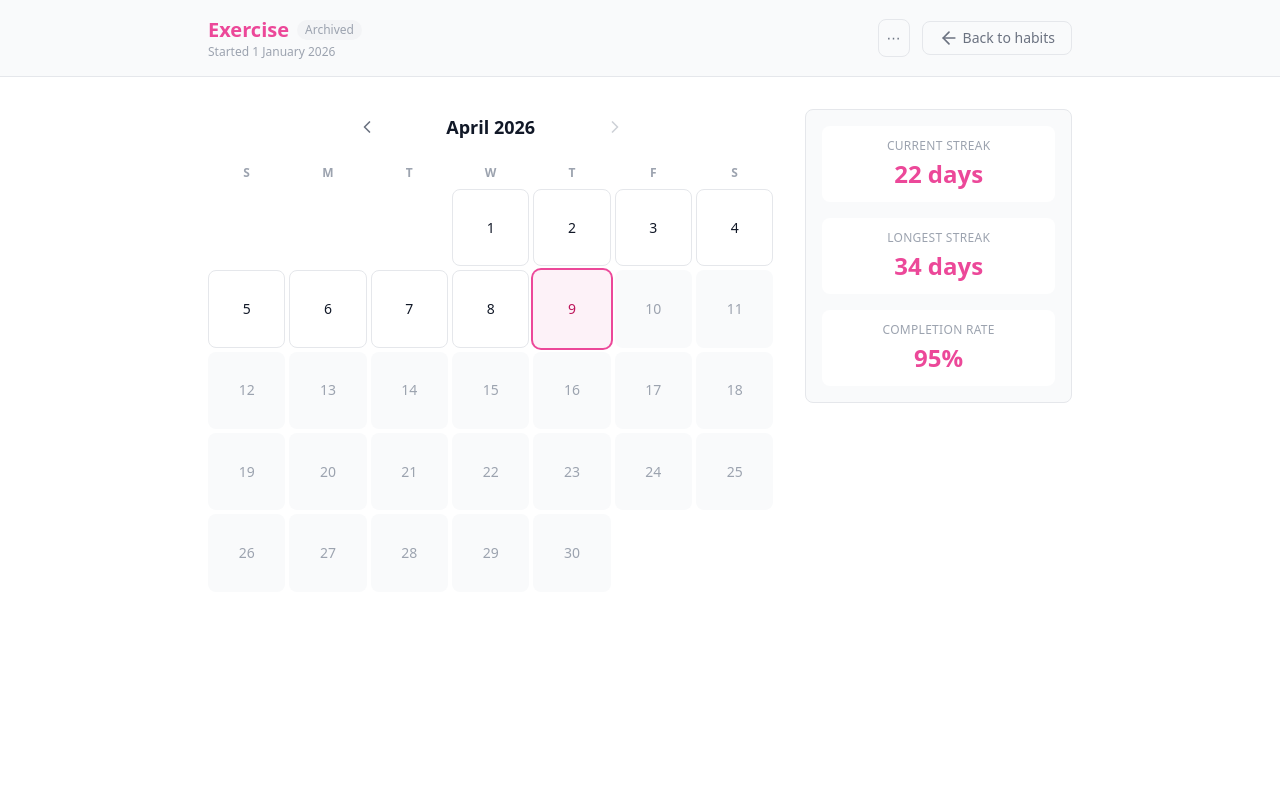
Test case: HabitCalendarPage › shows settings dropdown with only Unarchive for archived habit
expect the heading "Exercise" is shown: met, box [208,16,289,44]
Click the button named "habit settings". click: (894, 38)
box: [878,19,910,57]
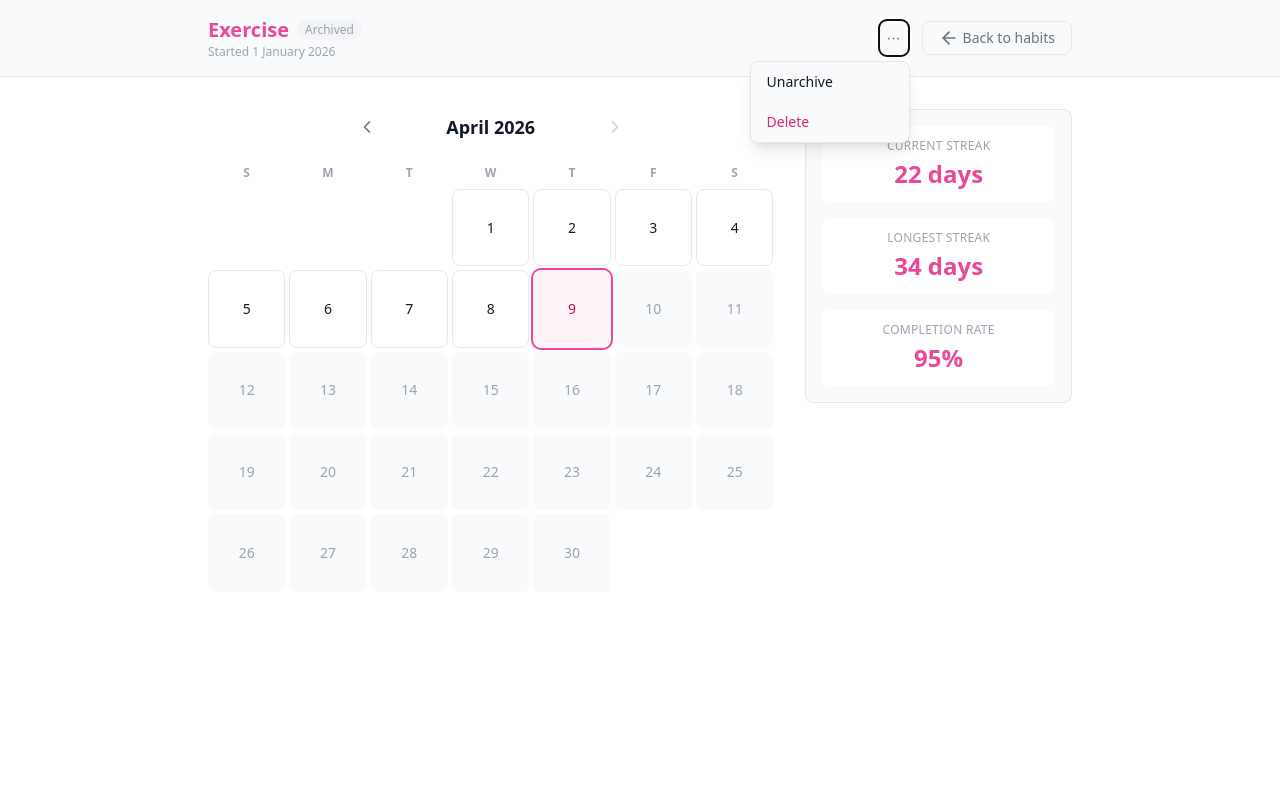
expect the menu item "Unarchive" is shown: met, box [750,62,908,102]
